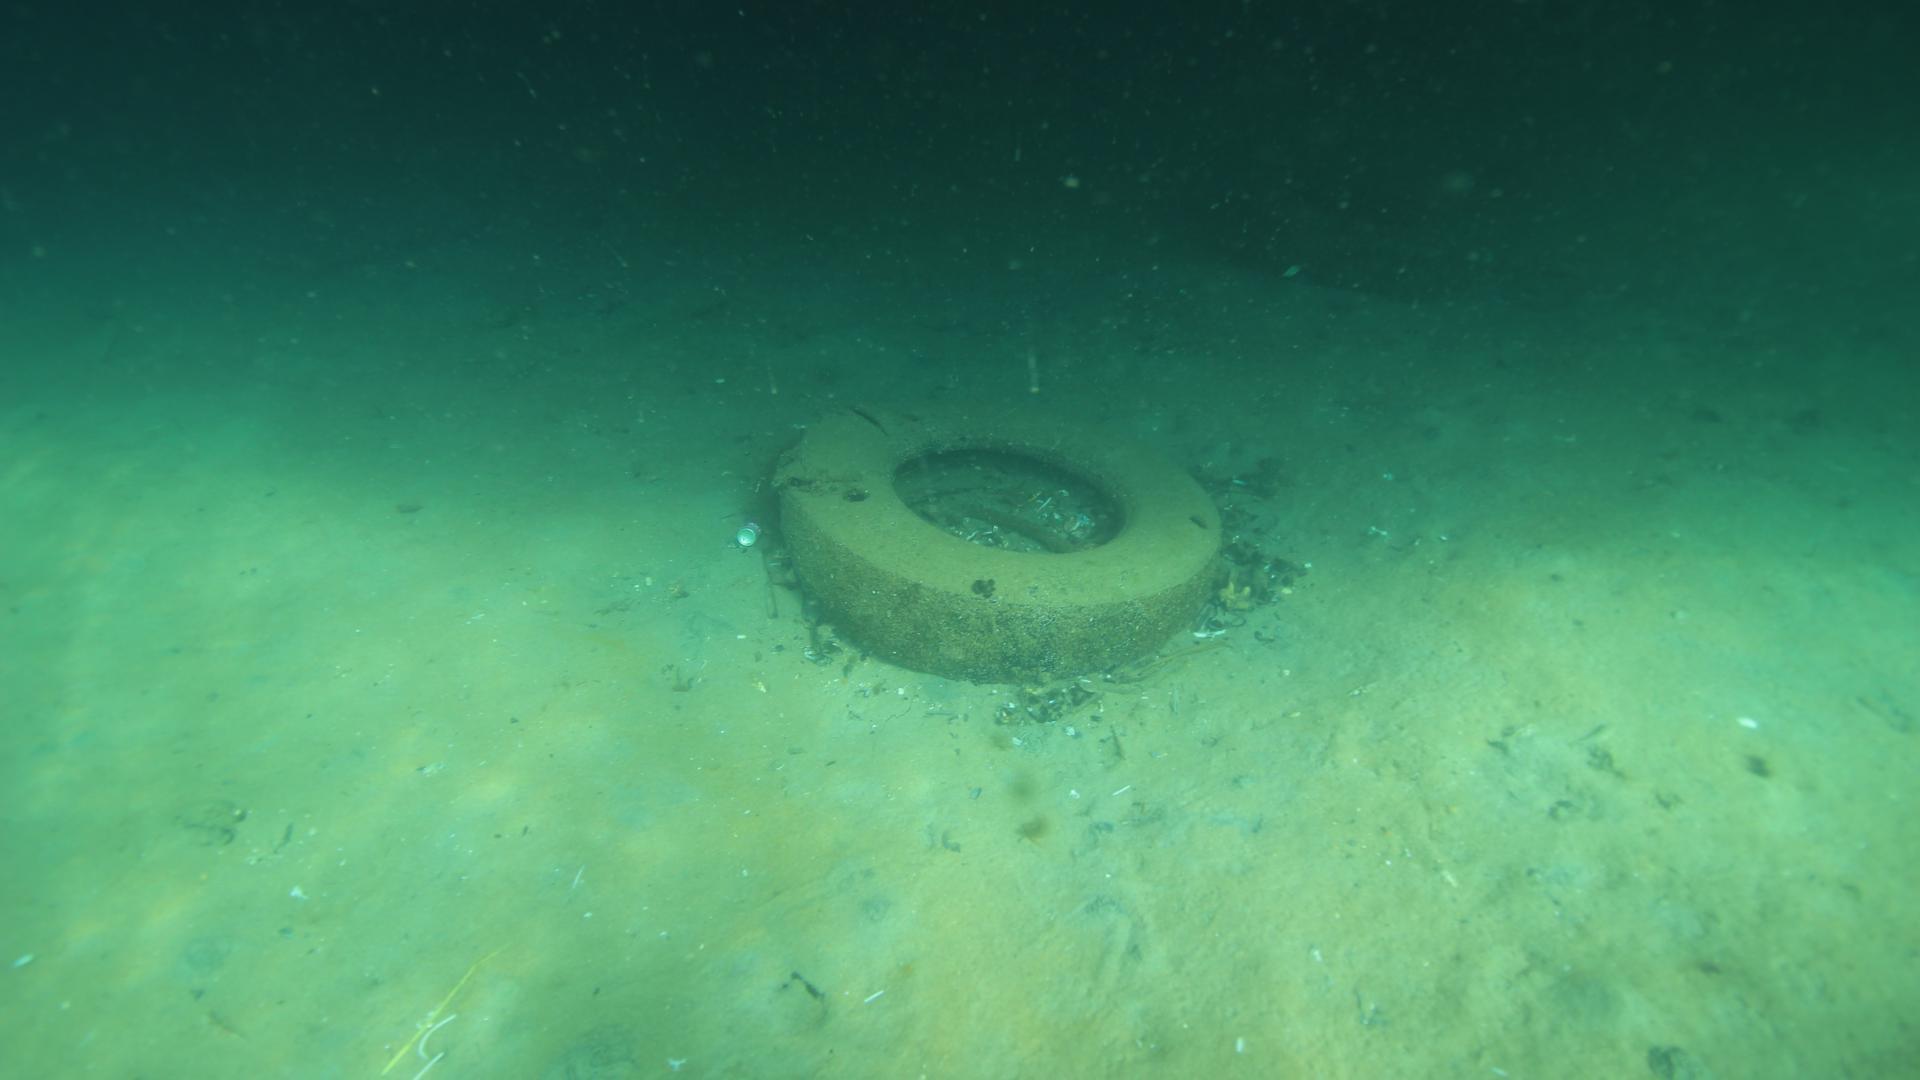tire: (777, 386, 1224, 680)
